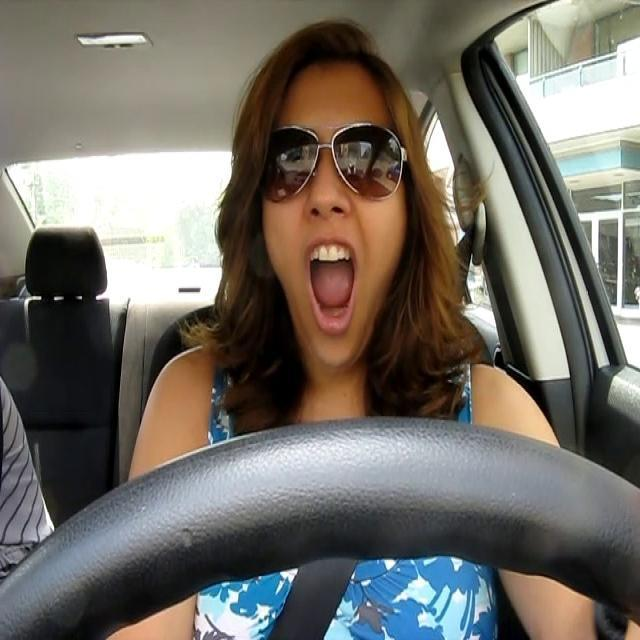open-mouth: (304, 236, 359, 336)
